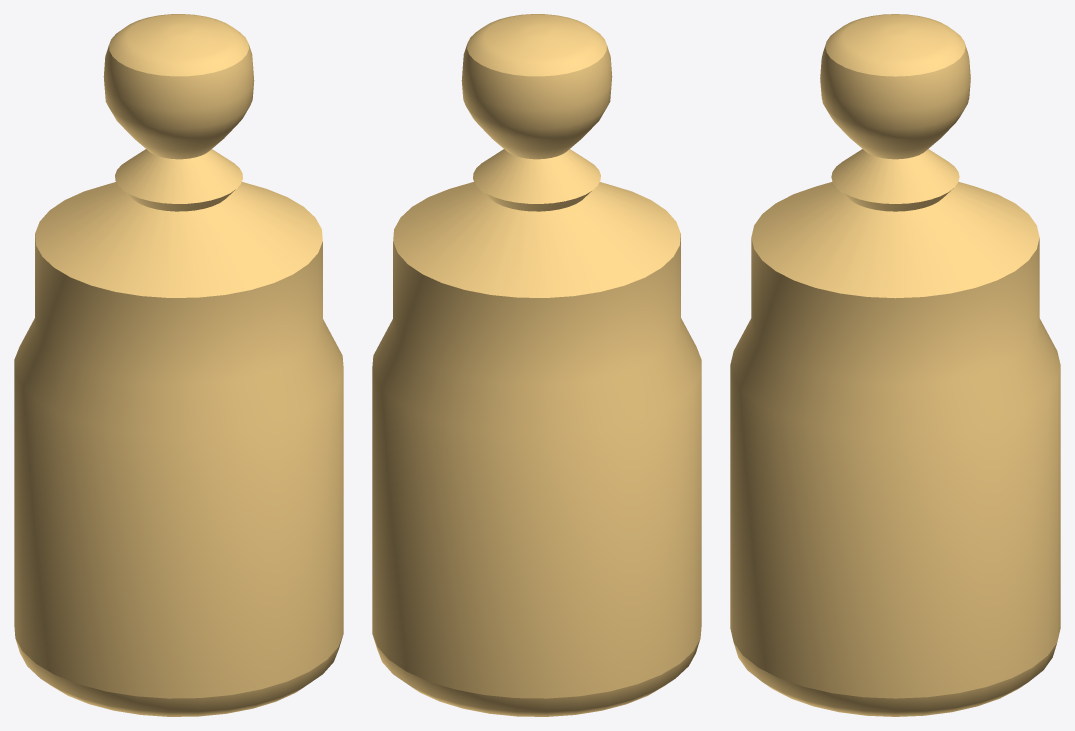
File: bottle44.glb
3 renders of one model, left to right at view 1: azimuth 30°, elevation 25°; view 2: azimuth 150°, elevation 25°; view 3: azimuth 270°, elevation 25°, orthographic.
Parts seen in each view (by area): view 1: Bottle44; view 2: Bottle44; view 3: Bottle44.
Boxes of the visible parts, <box> form: Bottle44: <box>14,14,343,716</box>; Bottle44: <box>372,14,701,716</box>; Bottle44: <box>730,14,1060,716</box>.
Size of the model in its own units: 8.68 by 18.22 by 8.68.
